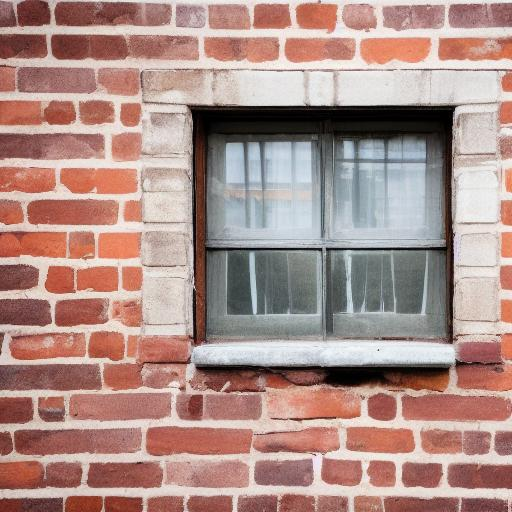Window: (140, 67, 503, 372)
